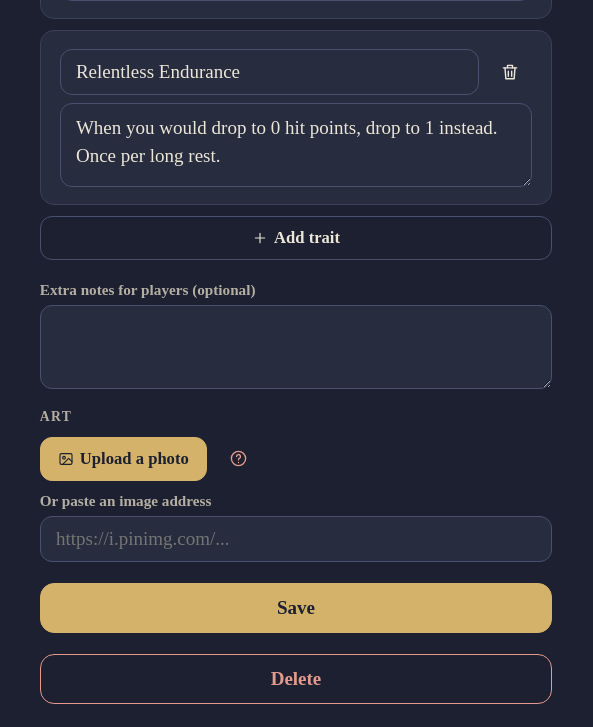
Scenario: Campaign Hub (demo mode) › asks for a second tap before deleting
(page scrolled)
Click the button "Delete" at coordinates (296, 679), box [40,654,552,704]
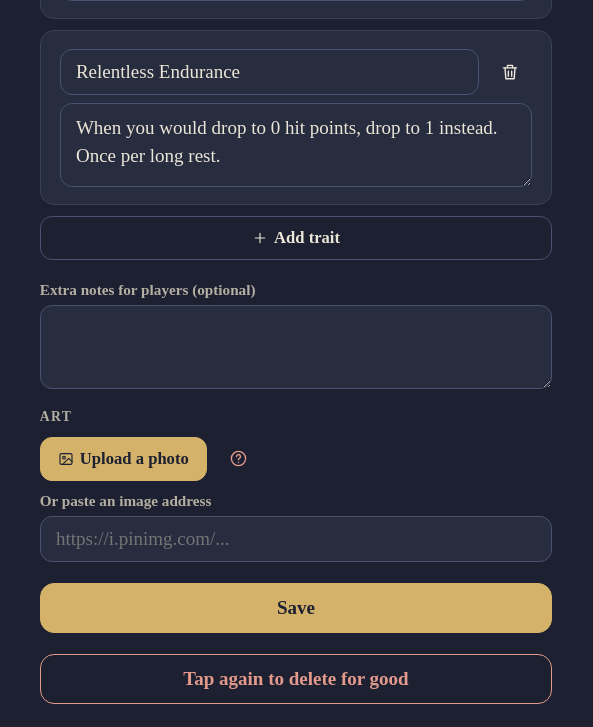
Now the text "Tap again to delete for good" is shown, box [183,668,409,690]
Click the button "Tap again to delete for good" at coordinates (296, 679), box [40,654,552,704]
(page scrolled)
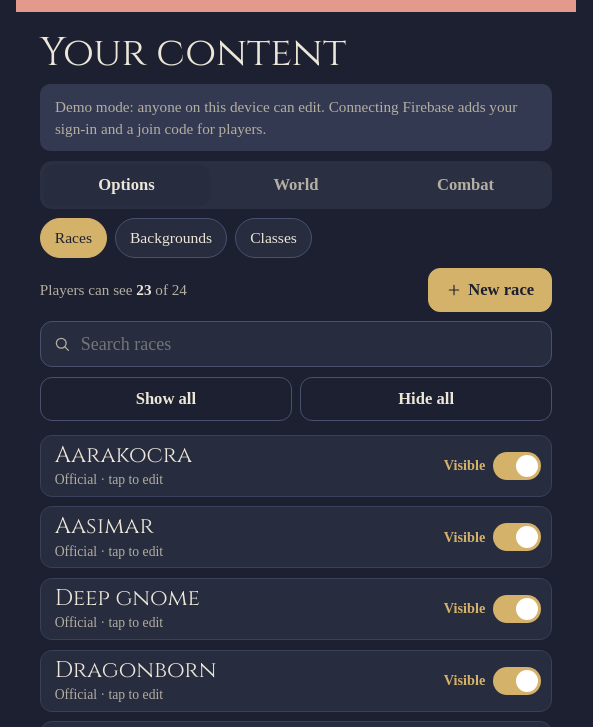
Now the heading "Your content" is shown, box [40,26,346,80]
